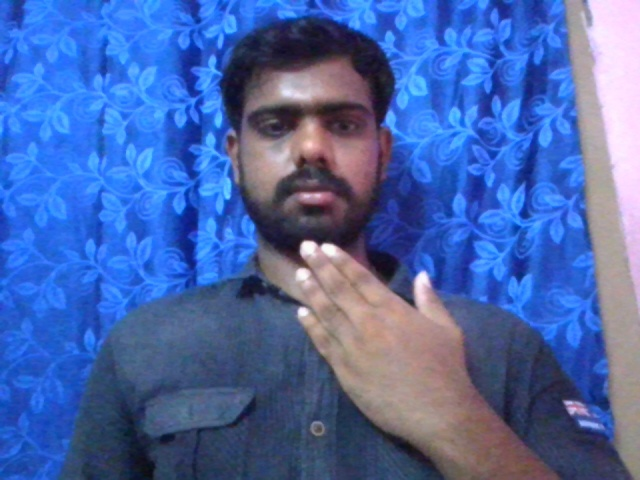Thanks: (294, 236, 447, 420)
